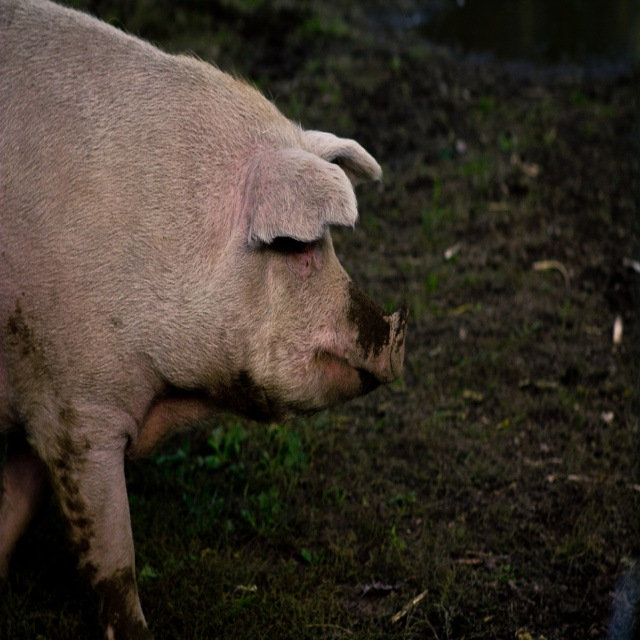Pig: (0, 0, 408, 639)
